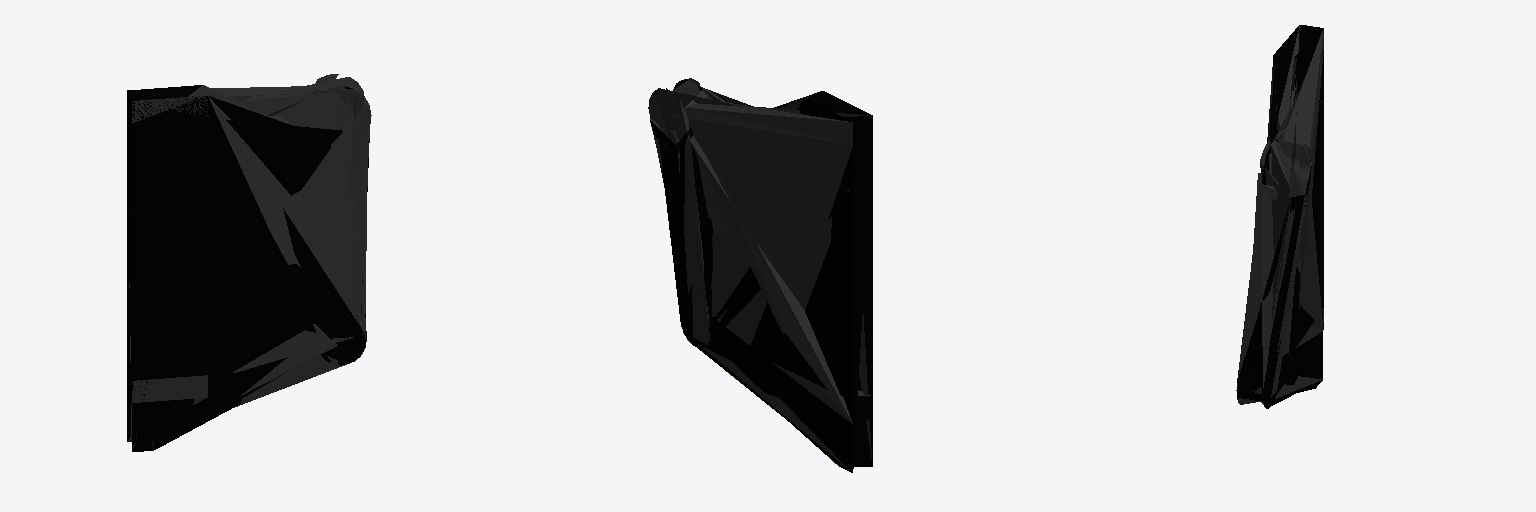
Rendered from Safe.obj.
The picture shows the model from 3 angles: view 1: azimuth 30°, elevation 25°; view 2: azimuth 150°, elevation 25°; view 3: azimuth 270°, elevation 25°; orthographic projection.
Visible parts, largest first — view 1: Box001, Cylinder003, Cylinder001, Object001, Cylinder002; view 2: Box001, Cylinder001, Object001, Cylinder003, Cylinder002; view 3: Box001, Cylinder001, Object001, Cylinder002, Cylinder003.
Part boxes in pixels (x1,y1,x2,y2): Box001: (128,74,371,450); Cylinder003: (127,85,369,400); Cylinder001: (132,89,366,451); Object001: (127,91,207,448); Cylinder002: (127,99,241,447); Box001: (648,78,871,470); Cylinder001: (650,80,872,472); Object001: (718,116,872,466); Cylinder003: (674,80,872,472); Cylinder002: (700,98,863,468); Box001: (1236,26,1323,404); Cylinder001: (1237,25,1323,408); Object001: (1289,25,1323,351); Cylinder002: (1272,29,1323,404); Cylinder003: (1238,25,1322,406).
Bounding box in the file's own units: 130807 × 191635 × 43046.